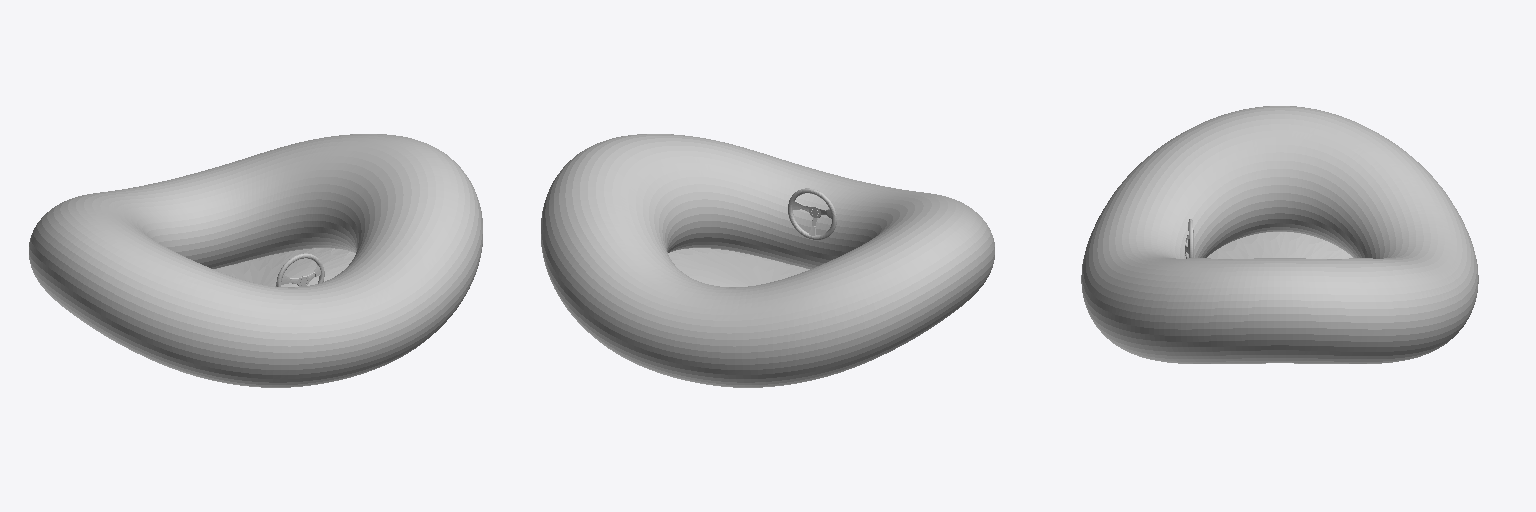
The model's file is Cellship.obj.
3 renders of one model, left to right at view 1: azimuth 30°, elevation 25°; view 2: azimuth 150°, elevation 25°; view 3: azimuth 270°, elevation 25°, orthographic.
Parts seen in each view (by area): view 1: Torus, SteeringWheel_SteeringWheel_0; view 2: Torus, SteeringWheel_SteeringWheel_0; view 3: Torus.
Part boxes in pixels (x1,y1,x2,y2): Torus: (29, 134, 482, 387); SteeringWheel_SteeringWheel_0: (276, 253, 324, 286); Torus: (541, 134, 994, 387); SteeringWheel_SteeringWheel_0: (788, 188, 836, 239); Torus: (1081, 106, 1478, 363).
Bounding box in the file's own units: 4.86 × 1.55 × 4.14.